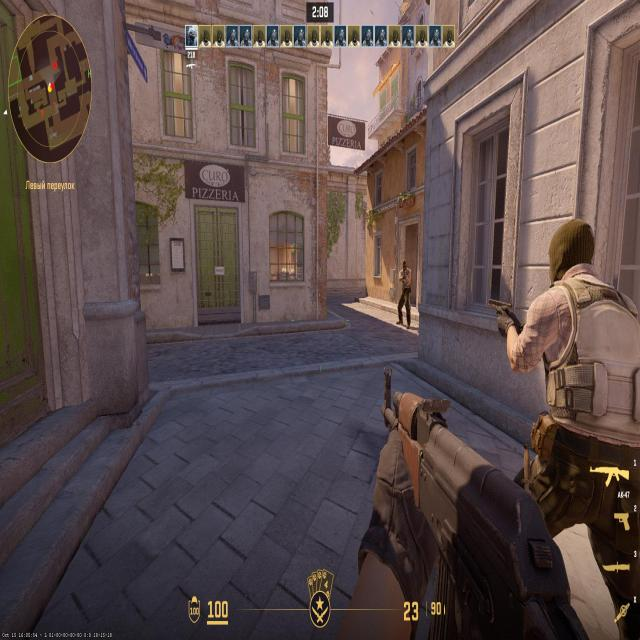T: (539, 235, 621, 433), (400, 259, 410, 314)
T_heat: (560, 240, 586, 294), (404, 262, 408, 276)
